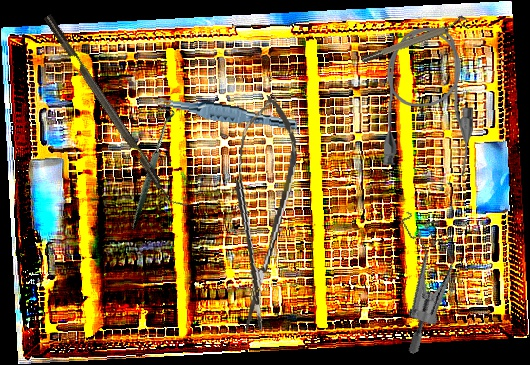Cannula: (383, 26, 475, 177)
Chopper: (43, 7, 189, 216)
Fixation Ring: (358, 14, 471, 65)
Hook Surgical: (85, 102, 213, 230)
Micro Scissor: (218, 92, 304, 337)
Speculum: (357, 201, 484, 356)
Tissue Forceps: (153, 94, 299, 131)
